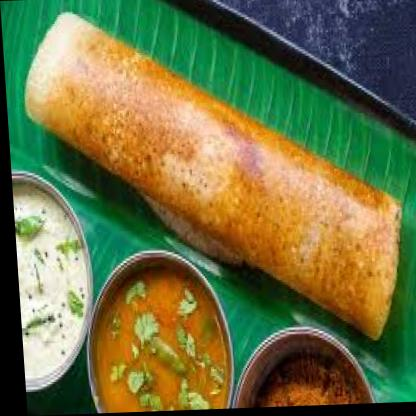dosa: (19, 2, 404, 351)
